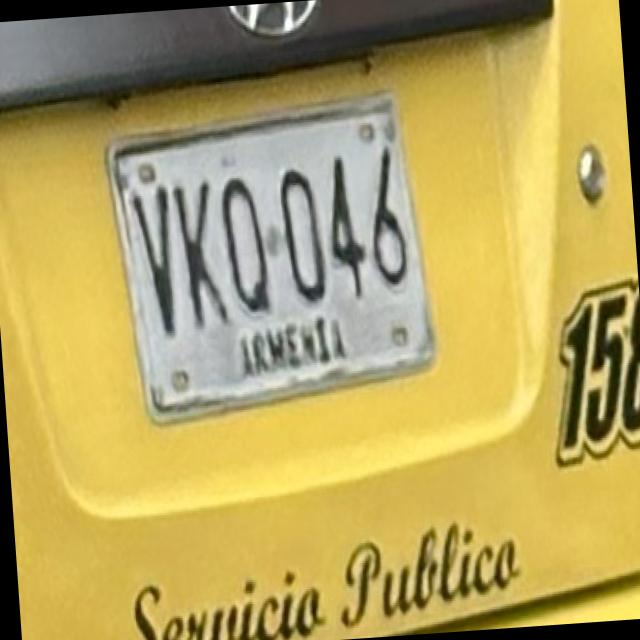number plate: (107, 94, 430, 416)
